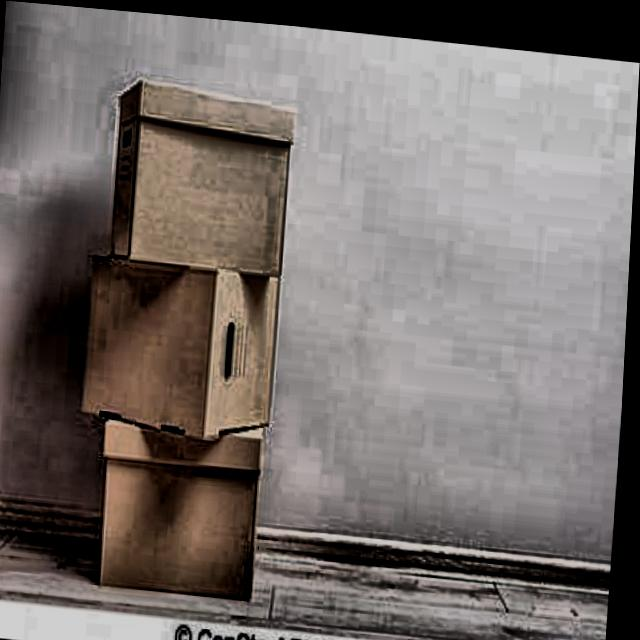Cardbox: (98, 66, 313, 285), (69, 240, 286, 446), (80, 394, 280, 614)
